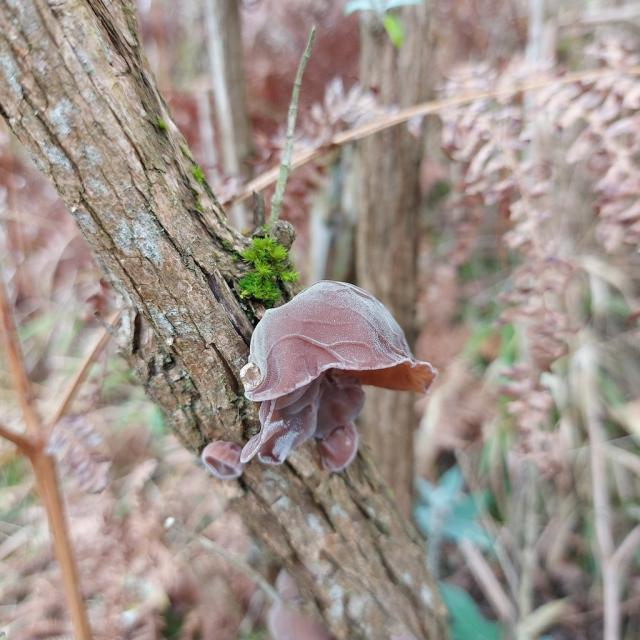Matang: (188, 268, 424, 538)
